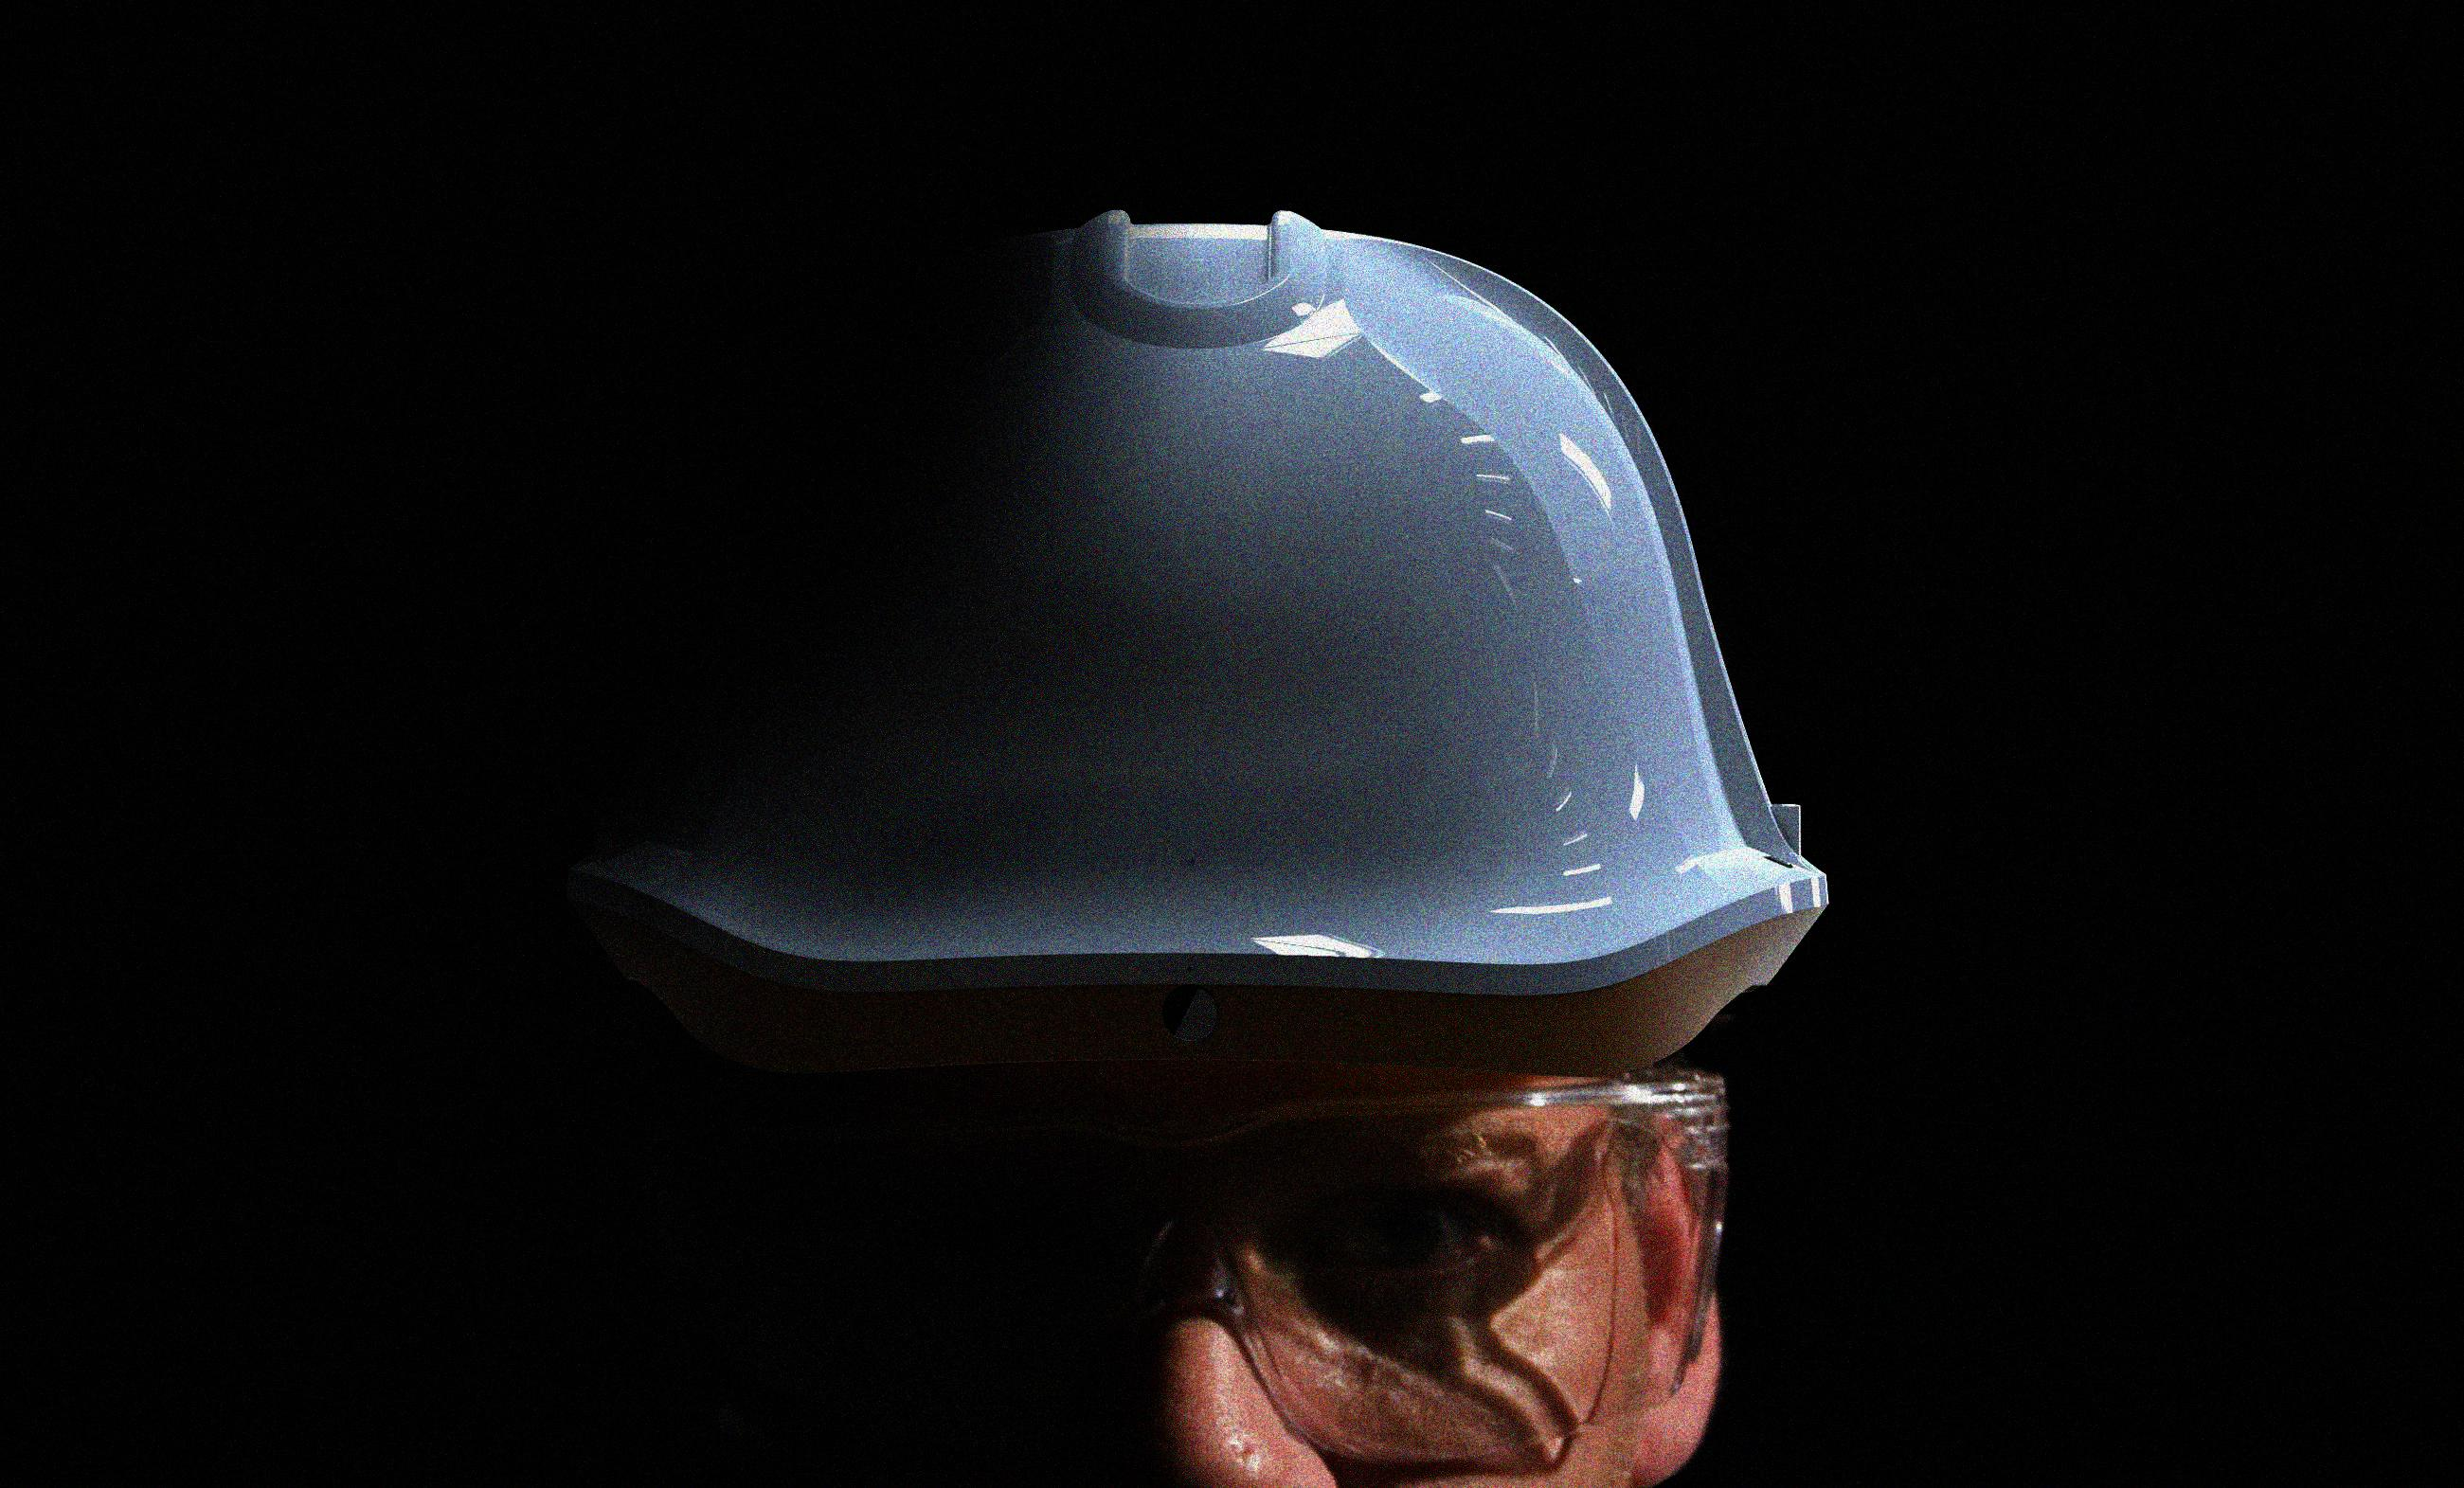helmet: (554, 193, 1815, 1488)
